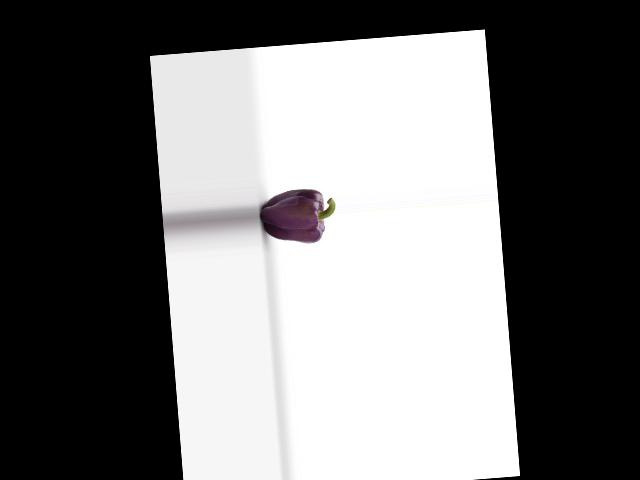bell_pepper: (259, 180, 337, 251)
